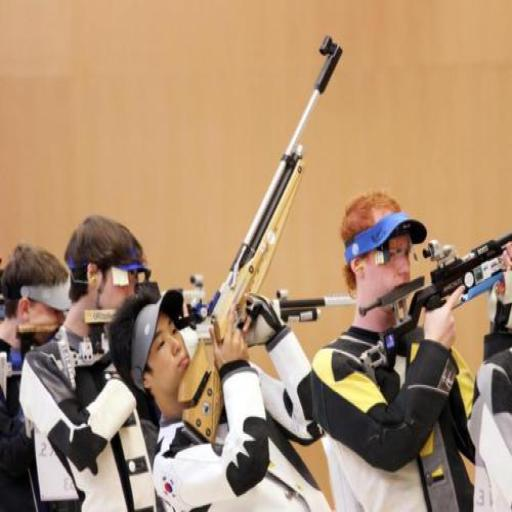shooting: (308, 188, 478, 511), (107, 283, 336, 511), (16, 212, 163, 511), (0, 241, 74, 511), (466, 219, 511, 511)
